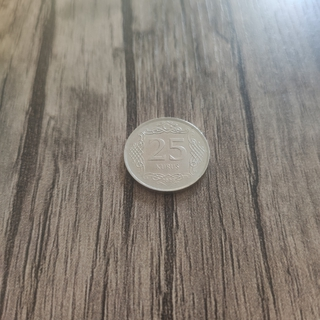25KURUS: (122, 115, 211, 193)
